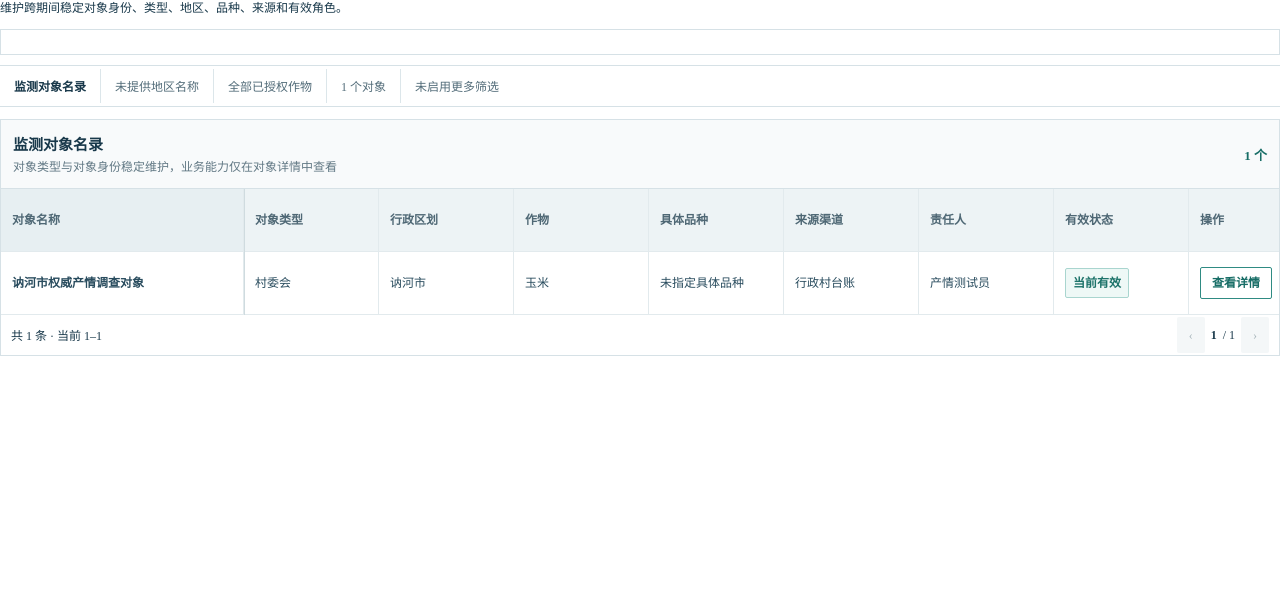
Test: keeps the editor open and reports an optimistic-lock failure
Expected: the column heading "讷河市权威产情调查对象" is shown, [1,252,244,315]
Click the button with aria-label "查看讷河市权威产情调查对象". click: coordinates (1236, 283)
box: [1200,267,1272,299]
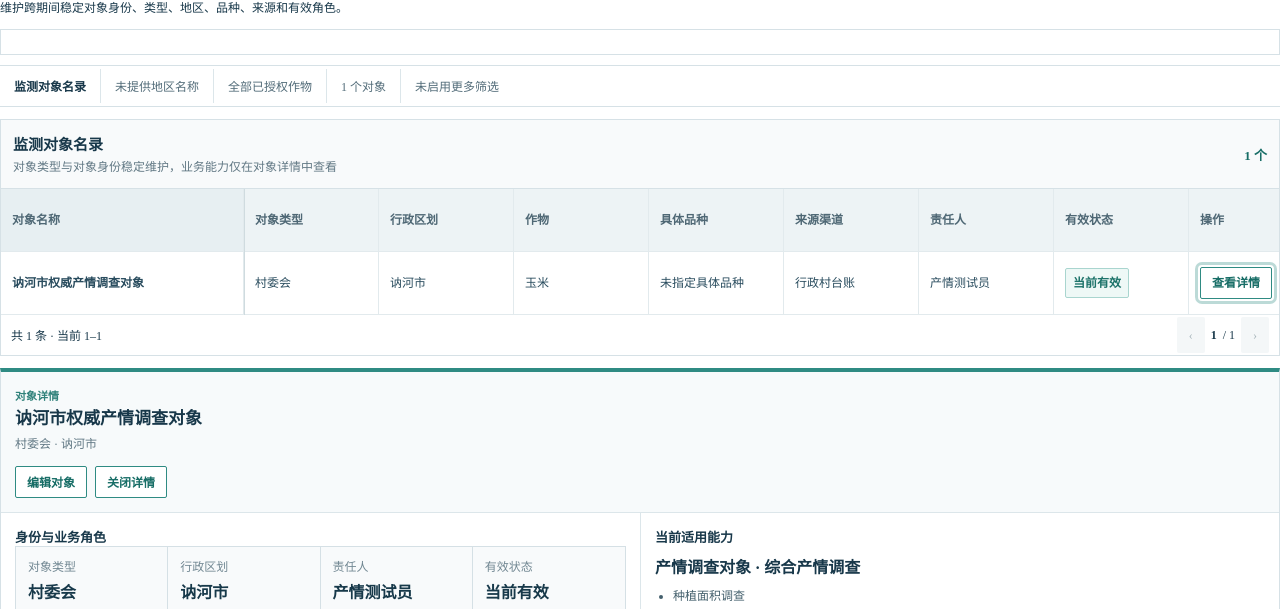
Click the button "编辑对象". click: coordinates (51, 482)
box: [15,466,87,498]
(page scrolled)
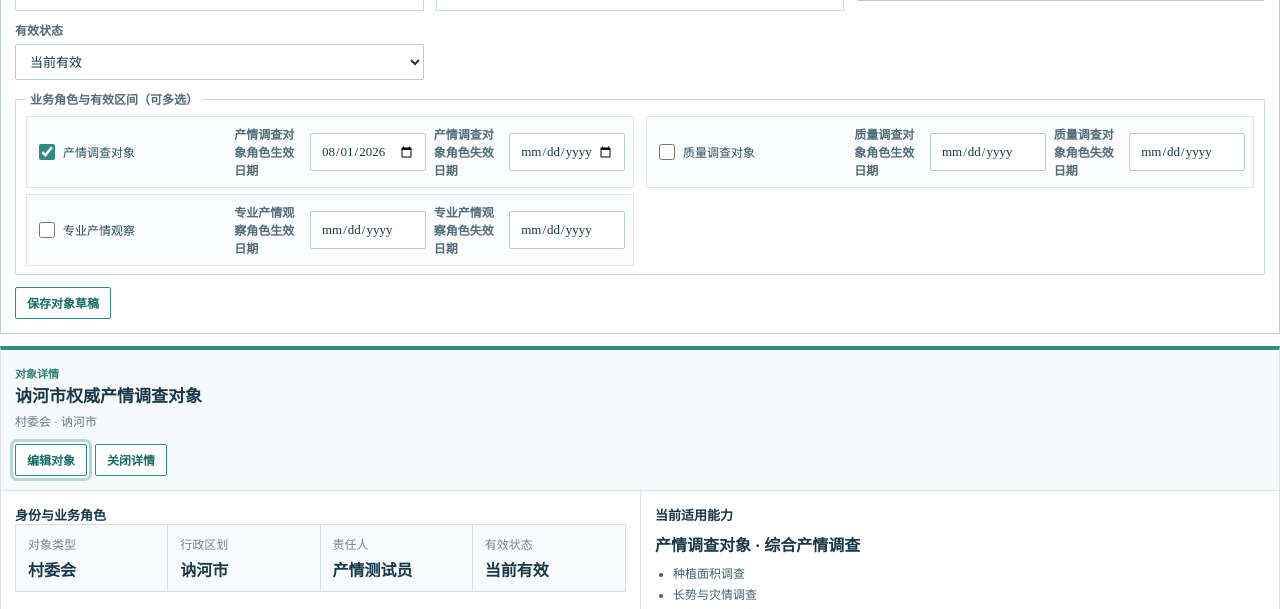
Click the button "保存对象草稿". click: coordinates (63, 303)
box: [15,287,111,319]
(page scrolled)
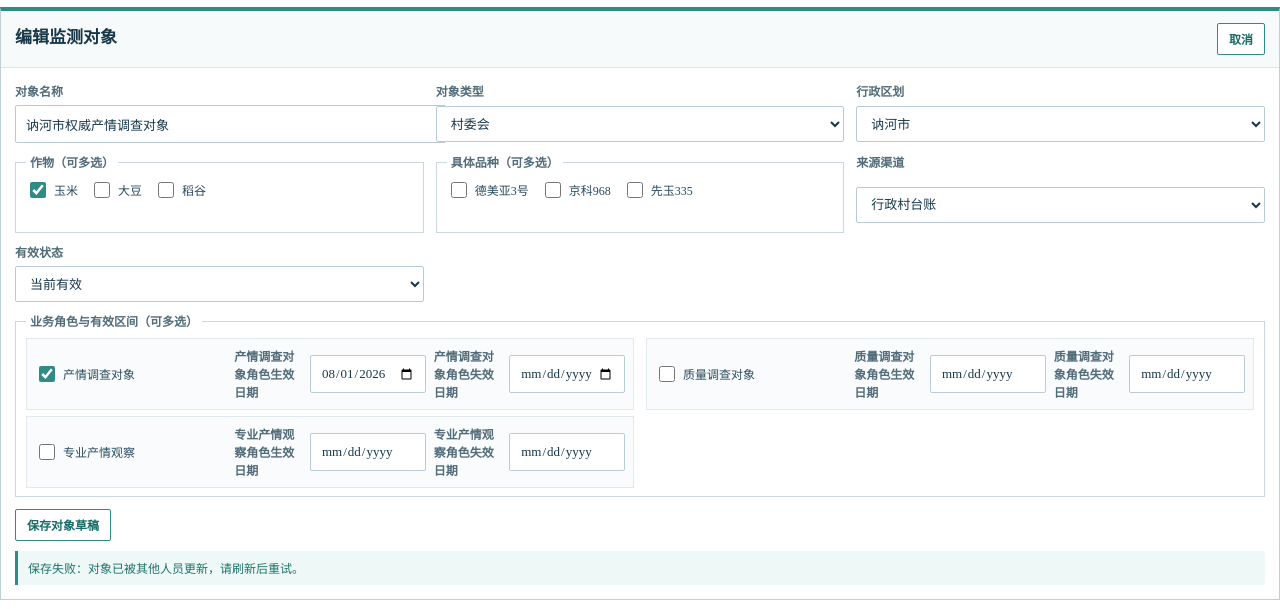
Now the form "编辑监测对象" is shown
Now the message shows "对象已被其他人员更新", box [28,562,304,576]
